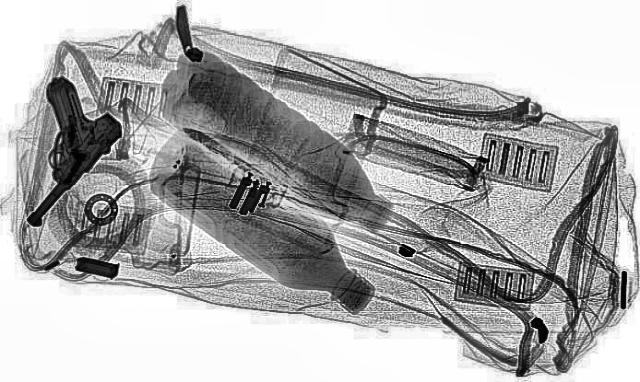Gun: (18, 76, 130, 226)
